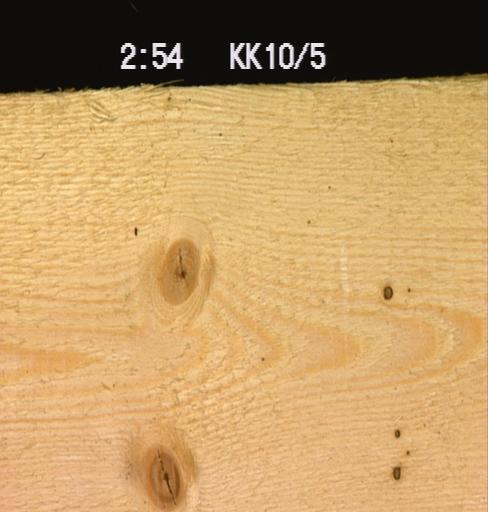dry_knot: (381, 284, 393, 301), (391, 465, 401, 480), (392, 427, 401, 439)
sound_knot: (157, 237, 200, 306), (142, 441, 184, 511)
